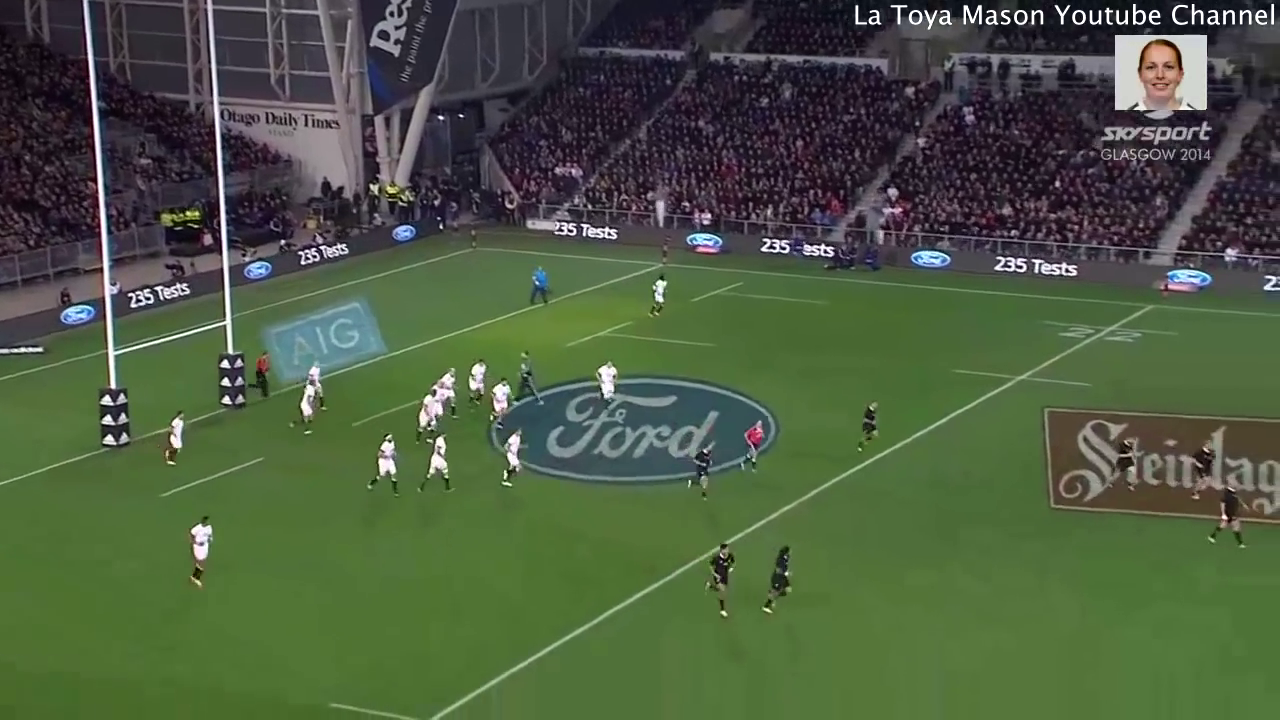player: (359, 428, 412, 508), (1200, 480, 1253, 559), (177, 505, 221, 592), (412, 426, 460, 500), (755, 538, 799, 618), (698, 532, 738, 619), (509, 344, 555, 413), (677, 438, 720, 508), (490, 424, 530, 492), (1187, 433, 1221, 507), (158, 399, 193, 468), (481, 371, 518, 435), (1105, 433, 1145, 492), (288, 376, 324, 441), (734, 412, 769, 476), (461, 352, 494, 417), (243, 342, 277, 405), (854, 391, 885, 458), (409, 386, 442, 448), (301, 357, 333, 420), (591, 352, 622, 417), (437, 356, 463, 423), (424, 372, 452, 431), (643, 269, 673, 322), (525, 264, 553, 309)
post: (72, 1, 254, 460)
